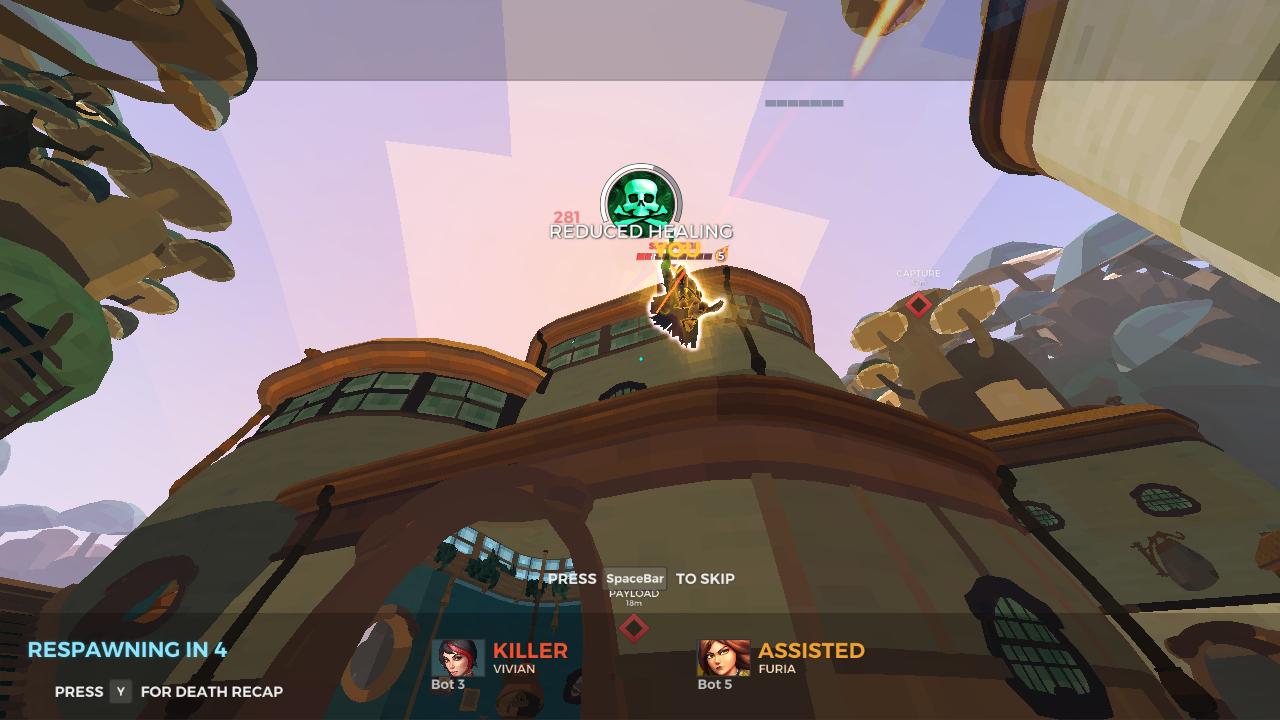model: (647, 250, 719, 351)
